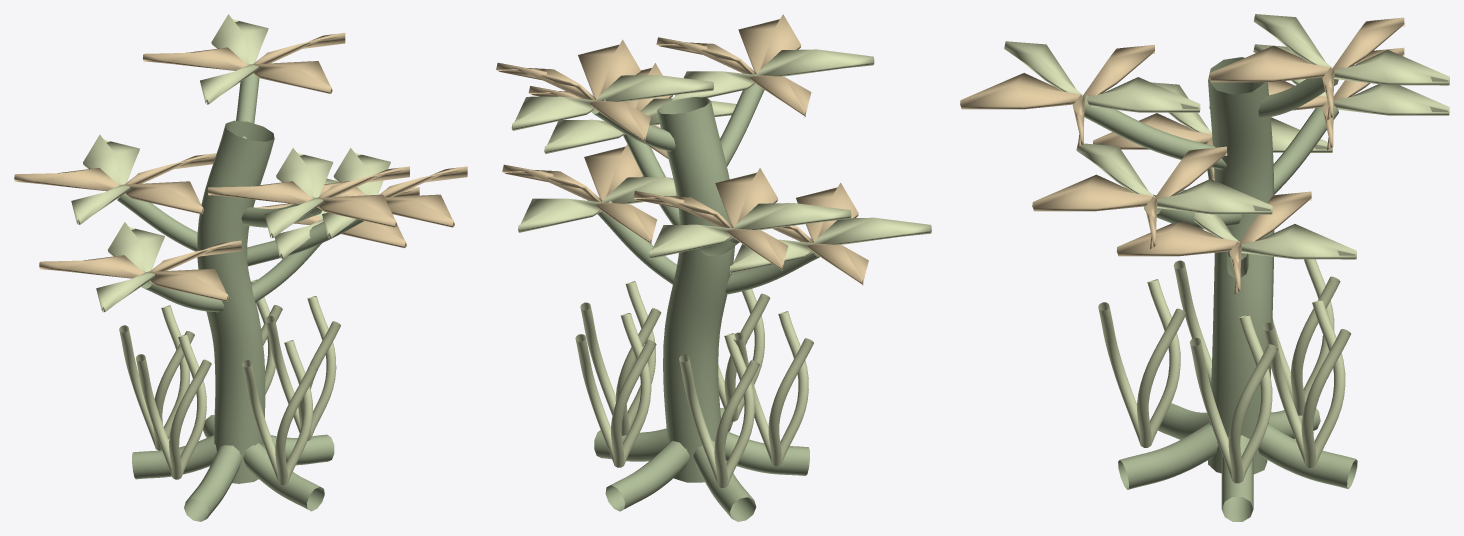
File: bio_canopy_tree_04_near.glb
The picture shows the model from 3 angles, left to right: view 1: azimuth 30°, elevation 25°; view 2: azimuth 150°, elevation 25°; view 3: azimuth 270°, elevation 25°; orthographic projection. The views are drawn at different scales.
Visible parts, largest first — view 1: Buttressed trunk, Broad canopy leaf.020, Broad canopy leaf.010, Broad canopy leaf.015, Broad canopy leaf.005, Spiral filament.006, Spiral filament.012, Spiral filament, Spiral filament.003, Broad canopy leaf.011, Broad canopy leaf.016, Broad canopy leaf.021 (+6 smaller); view 2: Buttressed trunk, Broad canopy leaf.005, Broad canopy leaf.015, Broad canopy leaf.010, Broad canopy leaf, Spiral filament.009, Spiral filament.003, Broad canopy leaf.016, Broad canopy leaf.006, Spiral filament.012, Broad canopy leaf.011, Broad canopy leaf.021 (+6 smaller); view 3: Buttressed trunk, Spiral filament.006, Spiral filament, Spiral filament.009, Broad canopy leaf.025, Broad canopy leaf.015, Broad canopy leaf.010, Broad canopy leaf, Broad canopy leaf.016, Broad canopy leaf.026, Broad canopy leaf.011, Broad canopy leaf.001 (+6 smaller).
Boxes of the visible parts, x1,y1,x2,y2 form: Buttressed trunk: [117, 74, 363, 521]; Broad canopy leaf.020: [39, 240, 241, 301]; Broad canopy leaf.010: [207, 166, 409, 227]; Broad canopy leaf.015: [143, 33, 345, 93]; Broad canopy leaf.005: [14, 153, 216, 214]; Spiral filament.006: [242, 340, 317, 485]; Spiral filament.012: [136, 334, 211, 479]; Spiral filament: [265, 296, 340, 440]; Spiral filament.003: [119, 305, 194, 450]; Broad canopy leaf.011: [264, 148, 333, 238]; Broad canopy leaf.016: [200, 14, 268, 104]; Broad canopy leaf.021: [96, 222, 164, 312]; Buttressed trunk: [592, 73, 819, 521]; Broad canopy leaf.005: [633, 168, 788, 270]; Broad canopy leaf.015: [496, 39, 650, 142]; Broad canopy leaf.010: [656, 14, 811, 117]; Broad canopy leaf: [502, 144, 657, 244]; Spiral filament.009: [575, 313, 656, 467]; Spiral filament.003: [679, 333, 759, 487]; Broad canopy leaf.016: [511, 75, 713, 130]; Broad canopy leaf.006: [649, 203, 851, 259]; Spiral filament.012: [733, 311, 813, 466]; Broad canopy leaf.011: [672, 49, 874, 101]; Broad canopy leaf.021: [729, 217, 931, 273]; Buttressed trunk: [1084, 57, 1357, 521]; Spiral filament.006: [1098, 279, 1186, 447]; Spiral filament: [1189, 314, 1277, 483]; Spiral filament.009: [1263, 299, 1350, 467]; Broad canopy leaf.025: [1032, 146, 1227, 248]; Broad canopy leaf.015: [1209, 17, 1404, 120]; Broad canopy leaf.010: [960, 44, 1154, 147]; Broad canopy leaf: [1116, 191, 1311, 293]; Broad canopy leaf.016: [1253, 14, 1449, 85]; Broad canopy leaf.026: [1076, 143, 1272, 214]; Broad canopy leaf.011: [1004, 41, 1200, 112]; Broad canopy leaf.001: [1176, 189, 1356, 259].
Size of the model in its own units: 2.97 by 2.99 by 2.93.
